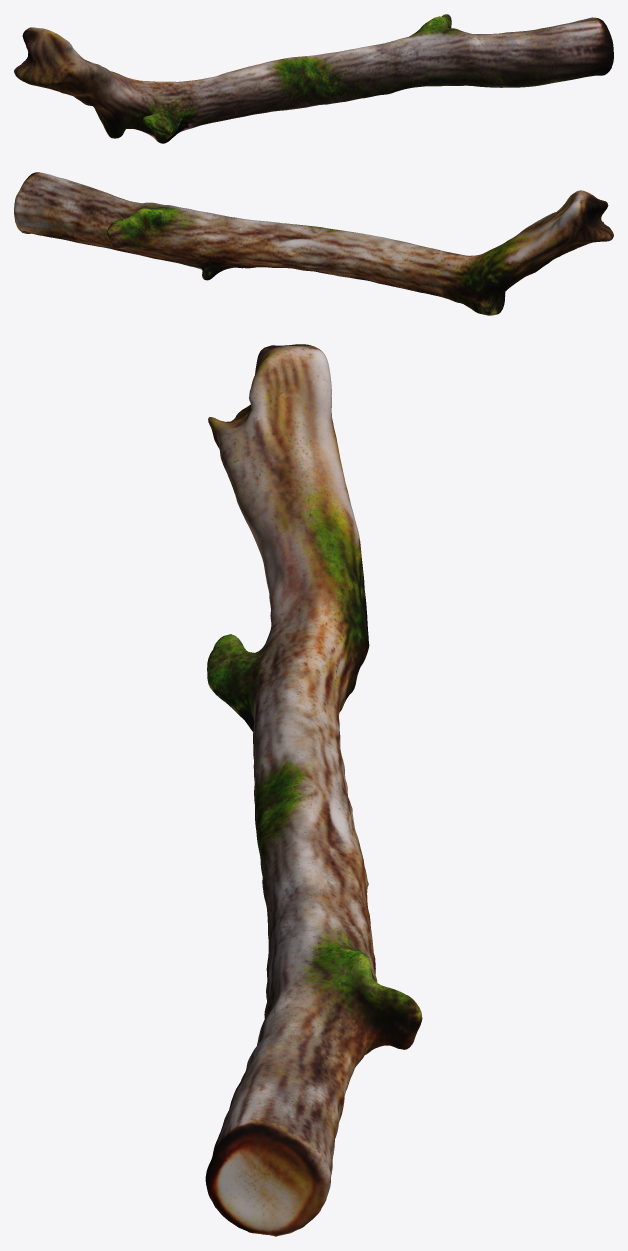
The model's file is c7bf4d2f95e7_realistic_wooden_br.fbx.
3 views of the same model, one above another, from view 1: azimuth 30°, elevation 25°; view 2: azimuth 150°, elevation 25°; view 3: azimuth 270°, elevation 25° (orthographic). The views are drawn at different scales.
Visible parts, largest first — view 1: high_poly; view 2: high_poly; view 3: high_poly.
Boxes of the visible parts, bbox=[...] form: high_poly: bbox=[14, 14, 613, 143]; high_poly: bbox=[14, 172, 613, 315]; high_poly: bbox=[205, 344, 422, 1236].
Bounding box in the file's own units: 100 × 28.77 × 16.1.
